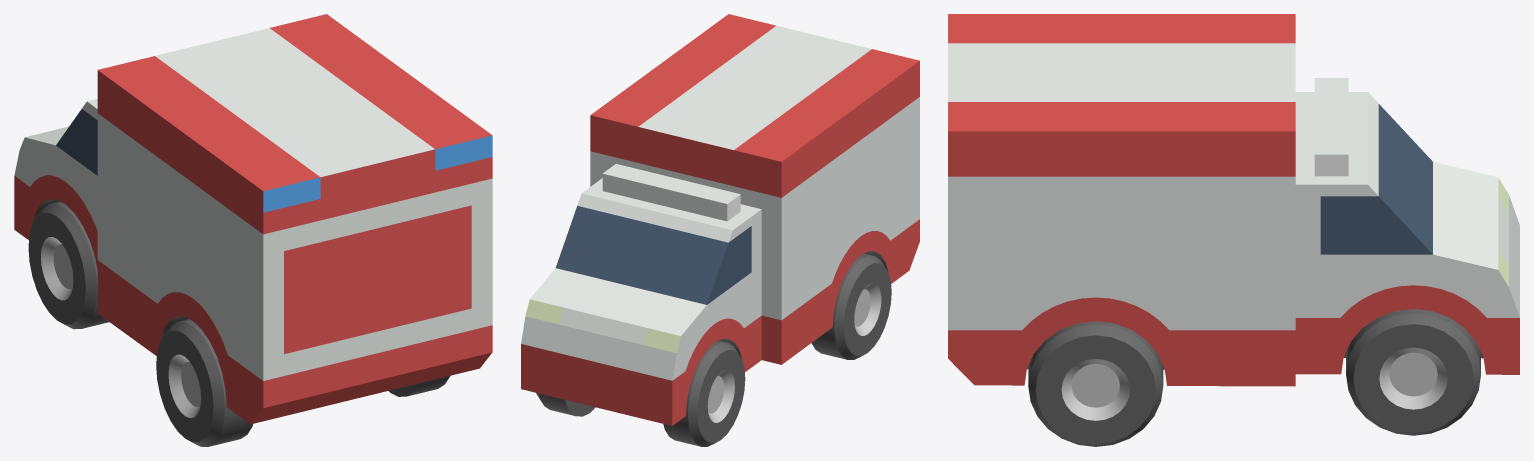
File: carAmbulance.fbx
3 renders of one model, left to right at view 1: azimuth 30°, elevation 25°; view 2: azimuth 150°, elevation 25°; view 3: azimuth 270°, elevation 25°, orthographic. The views are drawn at different scales.
Visible parts, largest first — view 1: body, wheelBackLeft, wheelFrontLeft, wheelBackRight; view 2: body, wheelBackLeft, wheelFrontLeft, wheelFrontRight; view 3: body, wheelFrontRight, wheelBackRight.
Boxes of the visible parts, bbox=[...] form: body: bbox=[14, 14, 492, 424]; wheelBackLeft: bbox=[156, 319, 252, 446]; wheelFrontLeft: bbox=[28, 201, 109, 329]; wheelBackRight: bbox=[389, 375, 450, 396]; body: bbox=[521, 14, 919, 425]; wheelBackLeft: bbox=[811, 253, 891, 359]; wheelFrontLeft: bbox=[663, 340, 745, 446]; wheelFrontRight: bbox=[536, 393, 595, 416]; body: bbox=[948, 14, 1519, 386]; wheelFrontRight: bbox=[1346, 309, 1480, 435]; wheelBackRight: bbox=[1028, 321, 1163, 446].
Size of the model in its own units: 6.15 by 7.27 by 11.85.
